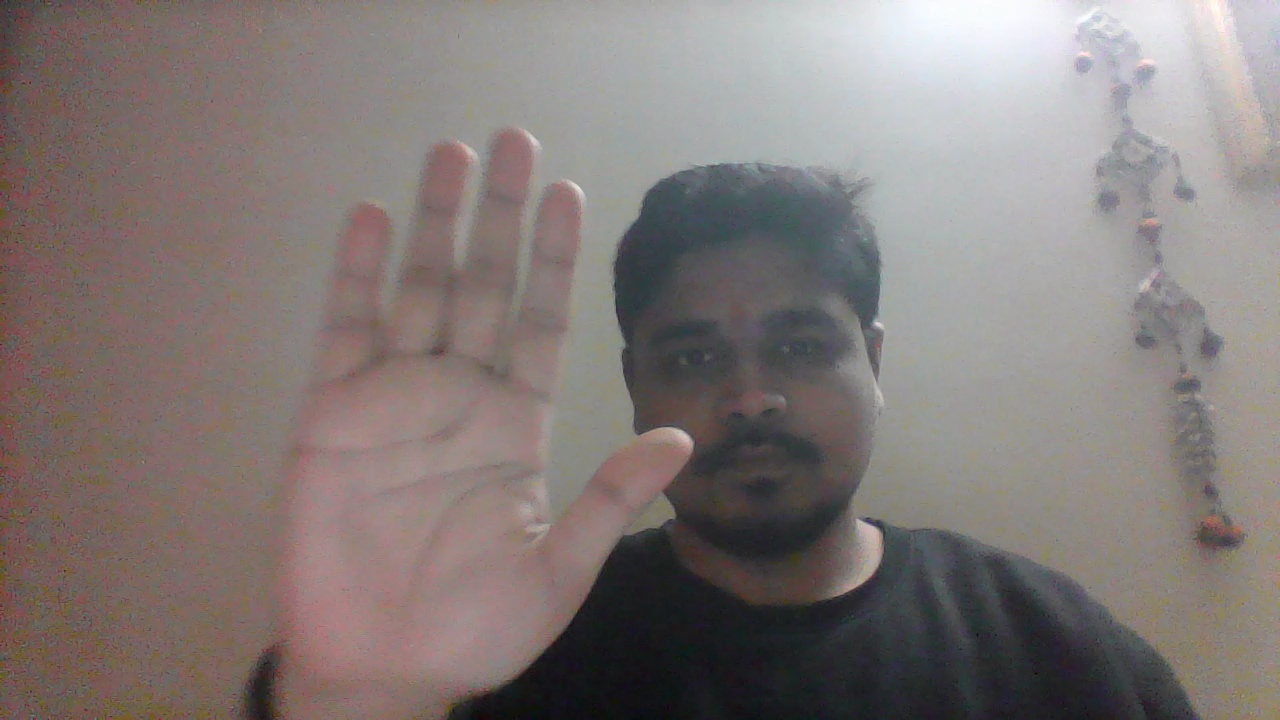Hello: (259, 123, 689, 707)
